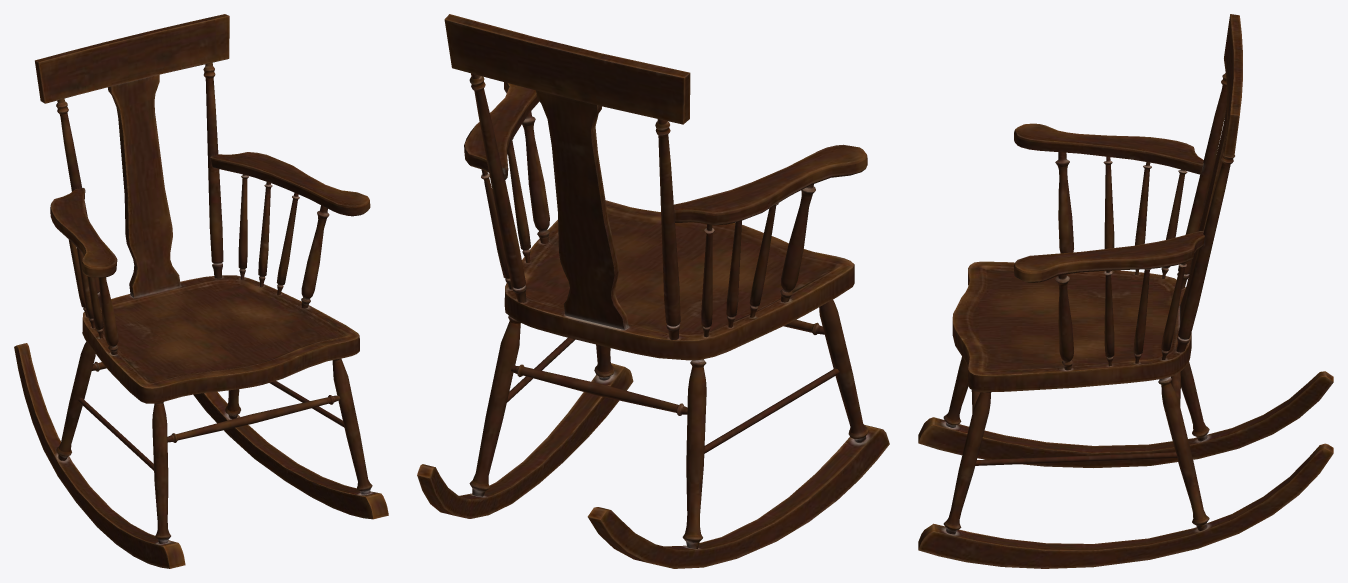
Rendered from Rockingchair_01.glb.
3 views of the same model, side by side, from view 1: azimuth 30°, elevation 25°; view 2: azimuth 150°, elevation 25°; view 3: azimuth 270°, elevation 25° (orthographic). The views are drawn at different scales.
Parts seen in each view (by area): view 1: Rockingchair_01; view 2: Rockingchair_01; view 3: Rockingchair_01.
Boxes of the visible parts, x1,y1,x2,y2 form: Rockingchair_01: (14,14,388,568); Rockingchair_01: (417,14,889,568); Rockingchair_01: (918,14,1333,568).
Size of the model in its own units: 0.7081 by 0.9949 by 0.8335.
Materials: 1 (1 with a texture image).
